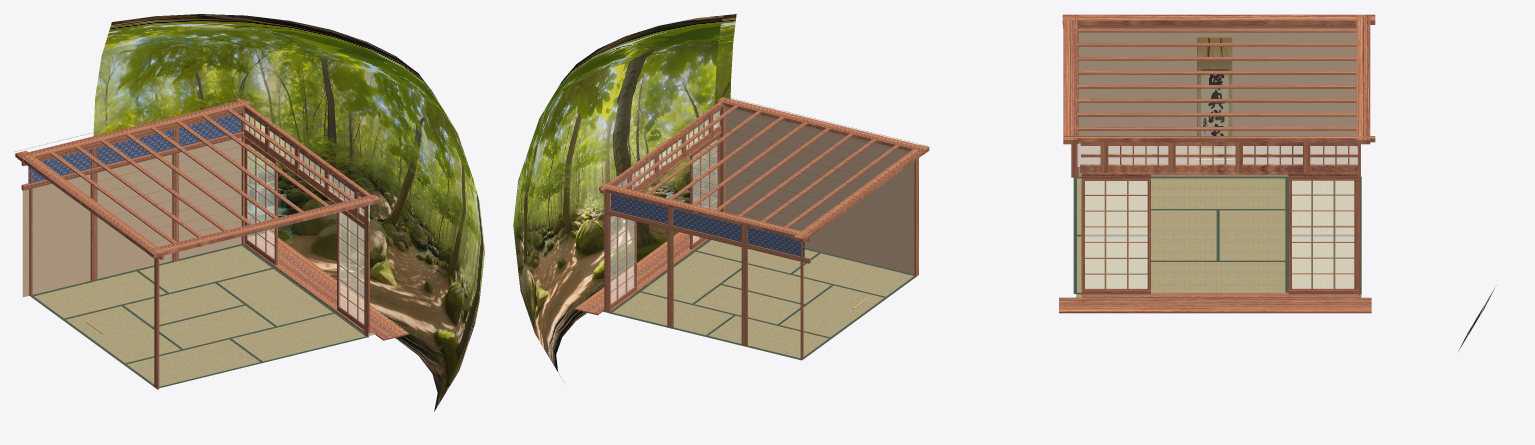
Rendered from room.glb.
3 views of the same model, side by side, from view 1: azimuth 30°, elevation 25°; view 2: azimuth 150°, elevation 25°; view 3: azimuth 270°, elevation 25° (orthographic). The views are drawn at different scales.
Visible parts, largest first — view 1: HDR_ball, Tatami, Wall03, Roof-bone, Cube.354, WallPaper, Footer, Roof, Beam-01.001, Beam-01, Glass.02, Cube.028 (+15 smaller); view 2: HDR_ball, Tatami, Wall01, Roof-bone, WallPaper, Cube.354, Footer, Beam-01, Roof, Beam-01.001, Glass.004, Cube.028 (+14 smaller); view 3: Tatami, Wall02, Roof-bone, Glass.004, Glass.02, Footer, Glass.01, Cube.028, 平面.001, Cube.354, Window03, Cube.030 (+17 smaller).
Part boxes in pixels (left/top/right/bottom): HDR_ball: left=93, top=14, right=484, bottom=411; Tatami: left=31, top=245, right=375, bottom=386; Wall03: left=22, top=137, right=241, bottom=297; Roof-bone: left=50, top=109, right=358, bottom=245; Cube.354: left=31, top=244, right=368, bottom=387; WallPaper: left=28, top=113, right=241, bottom=183; Footer: left=248, top=232, right=408, bottom=340; Roof: left=14, top=95, right=385, bottom=254; Beam-01.001: left=147, top=194, right=380, bottom=257; Beam-01: left=17, top=99, right=251, bottom=162; Glass.02: left=339, top=212, right=364, bottom=323; Cube.028: left=15, top=150, right=164, bottom=257; HDR_ball: left=513, top=14, right=736, bottom=381; Tatami: left=602, top=240, right=915, bottom=360; Wall01: left=726, top=106, right=914, bottom=274; Roof-bone: left=623, top=105, right=899, bottom=227; WallPaper: left=611, top=193, right=804, bottom=257; Cube.354: left=609, top=239, right=915, bottom=360; Footer: left=574, top=232, right=699, bottom=315; Beam-01: left=599, top=183, right=811, bottom=240; Roof: left=592, top=95, right=928, bottom=239; Beam-01.001: left=716, top=97, right=929, bottom=154; Glass.004: left=610, top=216, right=634, bottom=303; Cube.028: left=793, top=145, right=928, bottom=242; Tatami: left=1076, top=178, right=1361, bottom=297; Wall02: left=1078, top=28, right=1360, bottom=176; Roof-bone: left=1069, top=29, right=1356, bottom=130; Glass.004: left=1292, top=180, right=1354, bottom=288; Glass.02: left=1085, top=181, right=1147, bottom=288; Footer: left=1059, top=297, right=1371, bottom=313; Glass.01: left=1077, top=144, right=1357, bottom=166; Cube.028: left=1062, top=14, right=1375, bottom=24; 平面.001: left=1197, top=37, right=1232, bottom=159; Cube.354: left=1073, top=176, right=1361, bottom=294; Window03: left=1080, top=164, right=1357, bottom=172; Cube.030: left=1064, top=136, right=1375, bottom=142.
Size of the model in its own units: 10.52 by 7.96 by 12.72.
Materials: 10 (6 with a texture image).
